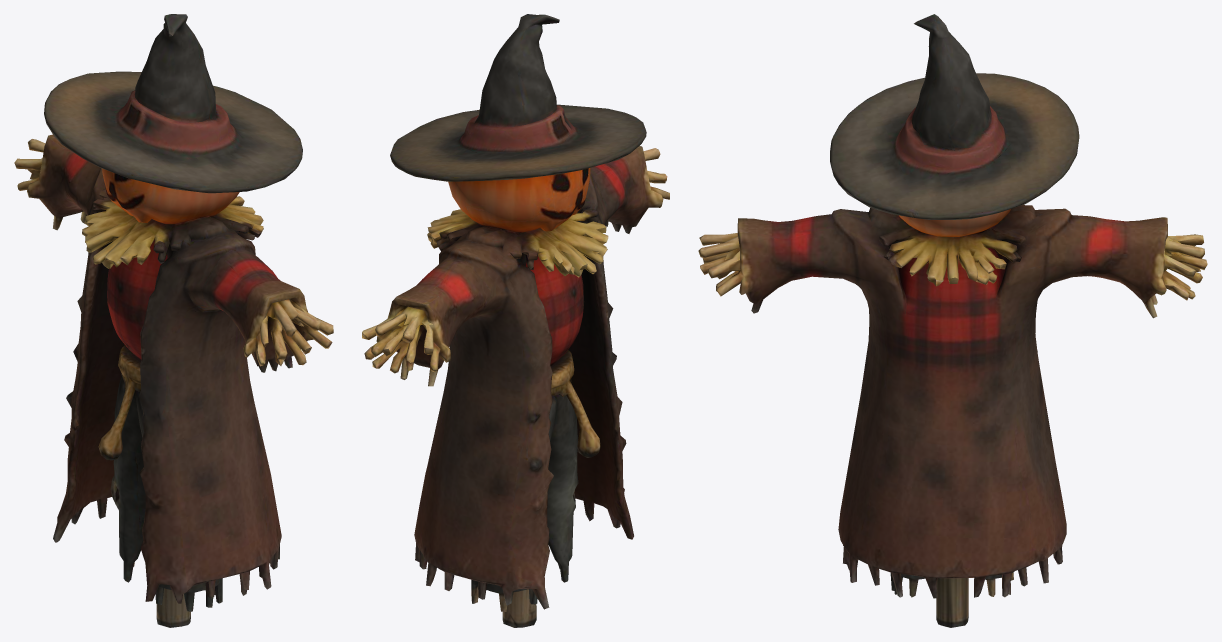
File: scarecrow.glb
The picture shows the model from 3 angles, left to right: view 1: azimuth 30°, elevation 25°; view 2: azimuth 150°, elevation 25°; view 3: azimuth 270°, elevation 25°; orthographic projection. The views are drawn at different scales.
Parts seen in each view (by area): view 1: hg-scarecrow; view 2: hg-scarecrow; view 3: hg-scarecrow.
Part boxes in pixels (<box>): hg-scarecrow: <box>14,14,333,627</box>; hg-scarecrow: <box>362,14,669,627</box>; hg-scarecrow: <box>698,14,1207,627</box>.
Size of the model in its own units: 1.09 by 2.85 by 2.2.
1 material, 1 textured.
